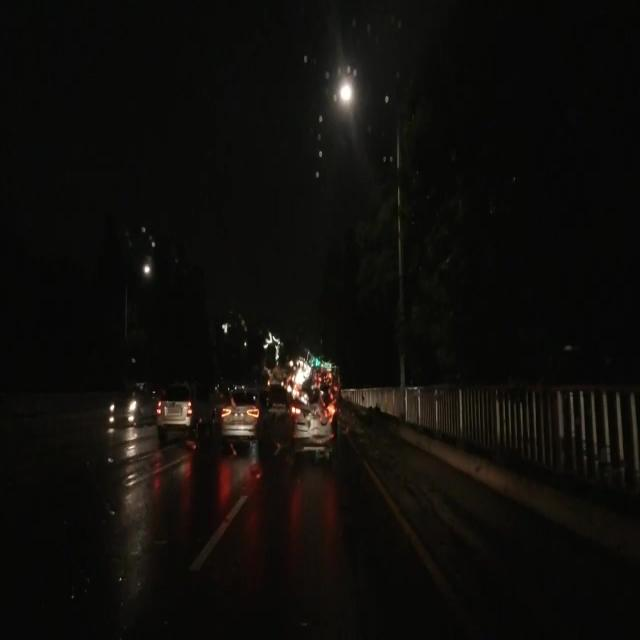Car: (288, 383, 337, 452), (152, 379, 209, 434), (222, 384, 262, 448), (107, 376, 150, 426)
